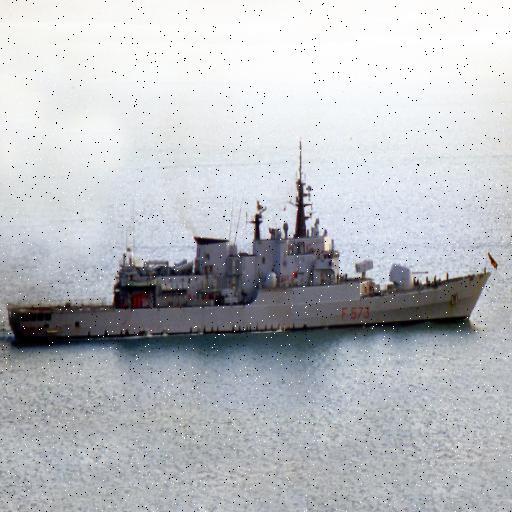Fragata: (2, 112, 501, 353)
